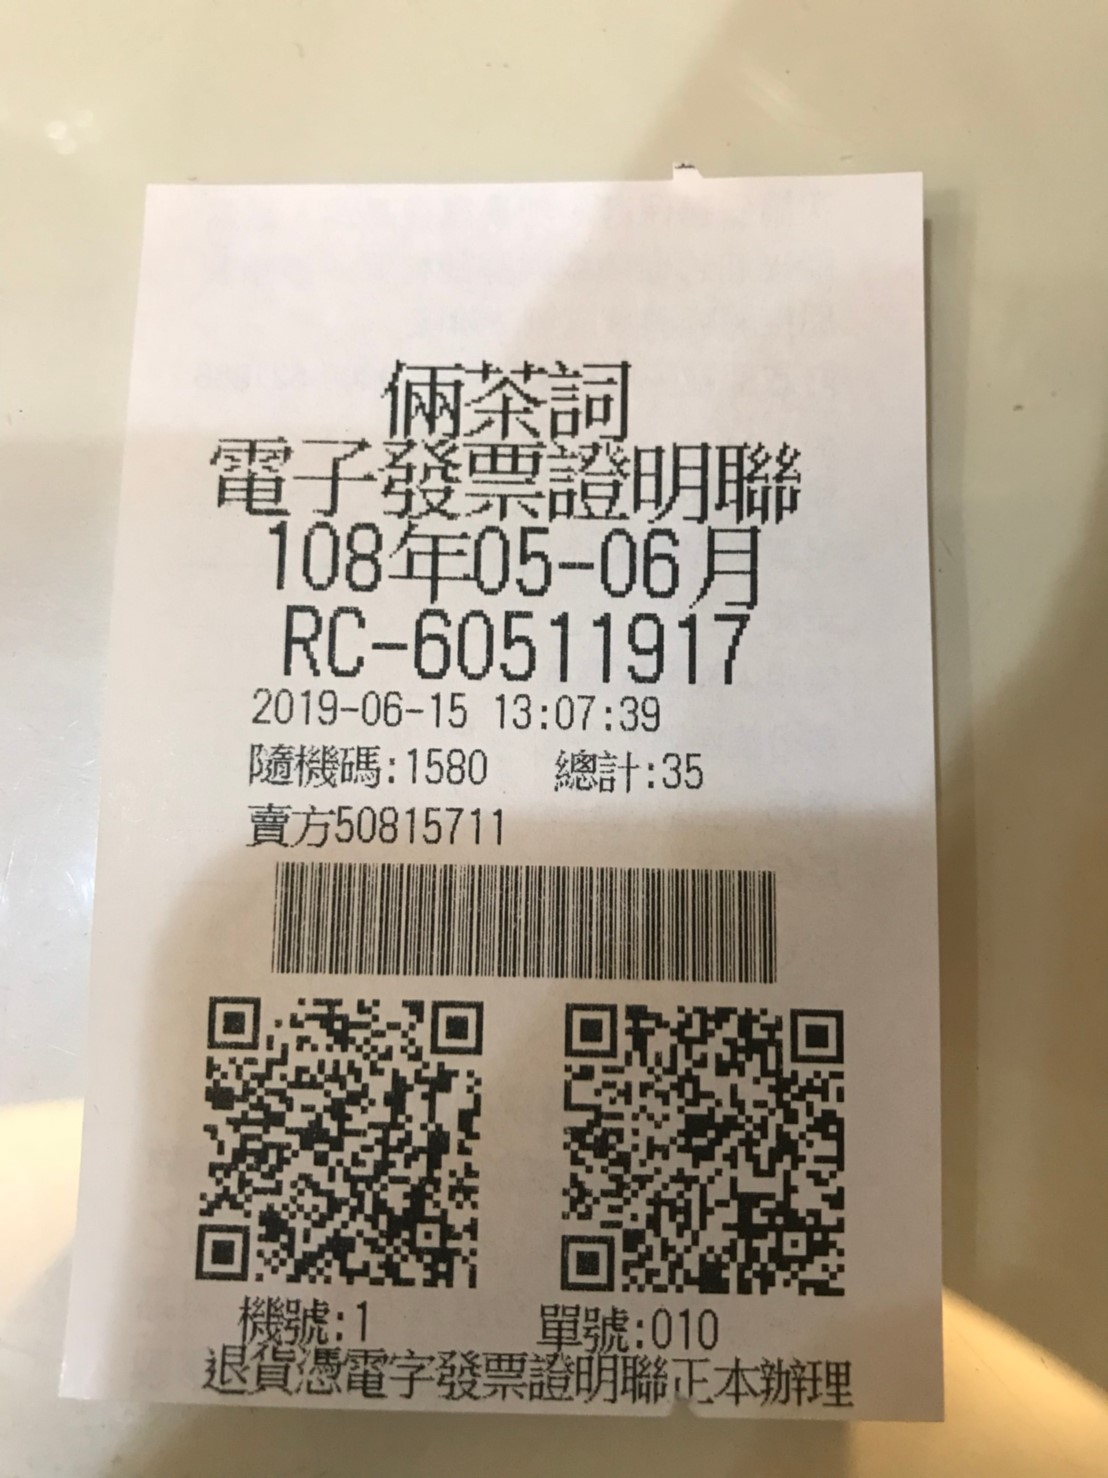Date_New: (267, 516, 760, 609)
Number_New: (411, 603, 754, 690)
